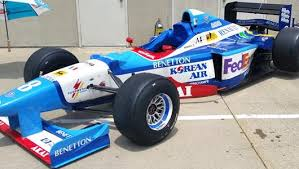FormulaOneCar: (1, 1, 299, 168)
